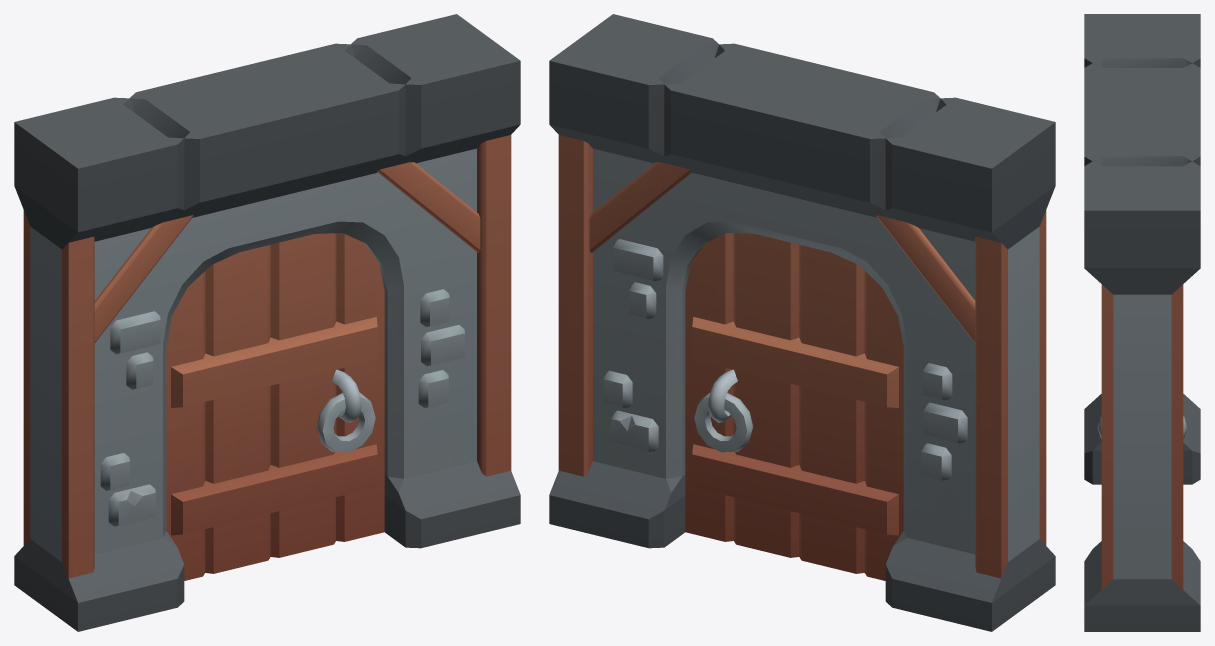
File: wall-doorway-scaffold.glb
3 renders of one model, left to right at view 1: azimuth 30°, elevation 25°; view 2: azimuth 150°, elevation 25°; view 3: azimuth 270°, elevation 25°, orthographic. The views are drawn at different scales.
Parts seen in each view (by area): view 1: Cube.13133, wall_doorway_scaffold_door; view 2: Cube.13133, wall_doorway_scaffold_door; view 3: Cube.13133.
Part boxes in pixels (x1=…): Cube.13133: x1=14, y1=14, x2=520, y2=631; wall_doorway_scaffold_door: x1=166, y1=233, x2=384, y2=580; Cube.13133: x1=549, y1=14, x2=1055, y2=631; wall_doorway_scaffold_door: x1=685, y1=233, x2=903, y2=580; Cube.13133: x1=1084, y1=14, x2=1200, y2=631.
Size of the model in its own units: 4 by 4 by 1.
1 material, 1 textured.
